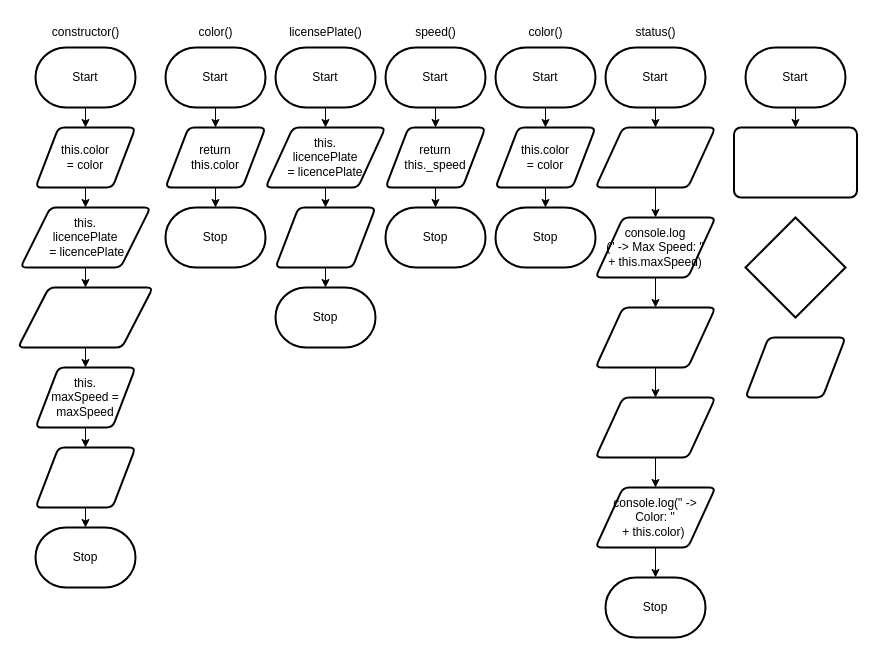
The diagram is 875 pixels wide and 655 high, and some of its shapes have lost their labels. The centre of each missing label's shape, as x and y in pixels:
console.log (" -> Speed: " + this._speed): pixel 655 157
console.log(" -> Licence Plate: " + this.licencePlate): pixel 655 427
console.log(" -> Number Of Doors: " + this. numberOfDoors): pixel 655 337
if (this._speed > this.max Speed): pixel 795 267
return this. licencePlate: pixel 325 237
this. numberOfDoors = numberOfDoors: pixel 85 317
this._speed = (accelerationPower * accelerationTime) + this._speed: pixel 795 162
this._speed = 0: pixel 85 477
